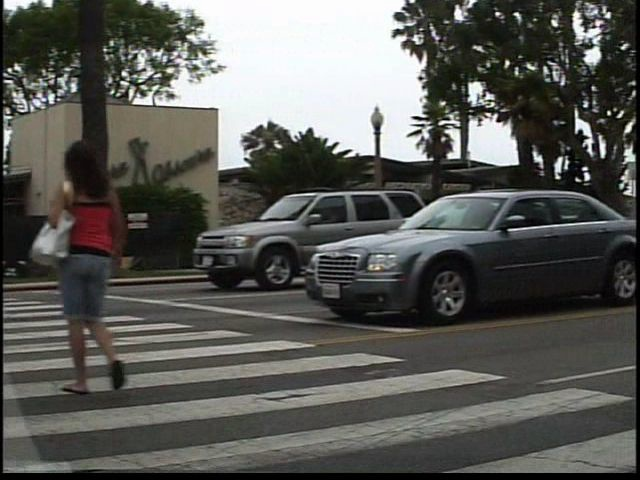person: (63, 139, 156, 407)
